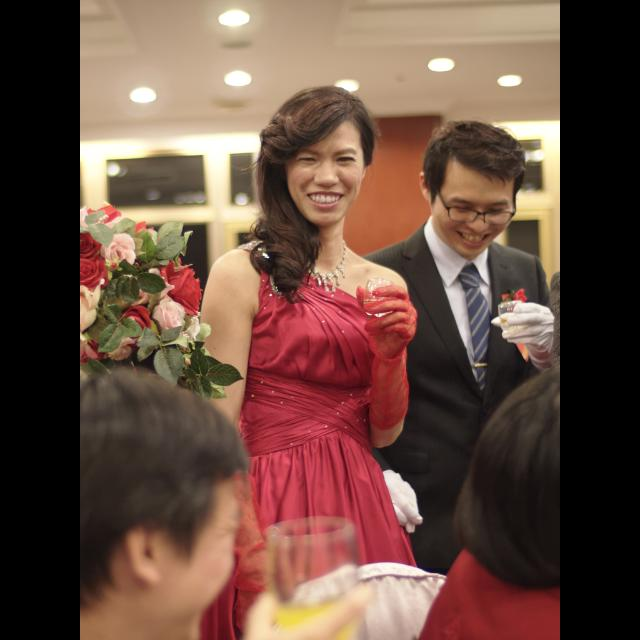Flower: (80, 203, 200, 363), (500, 288, 528, 302)
